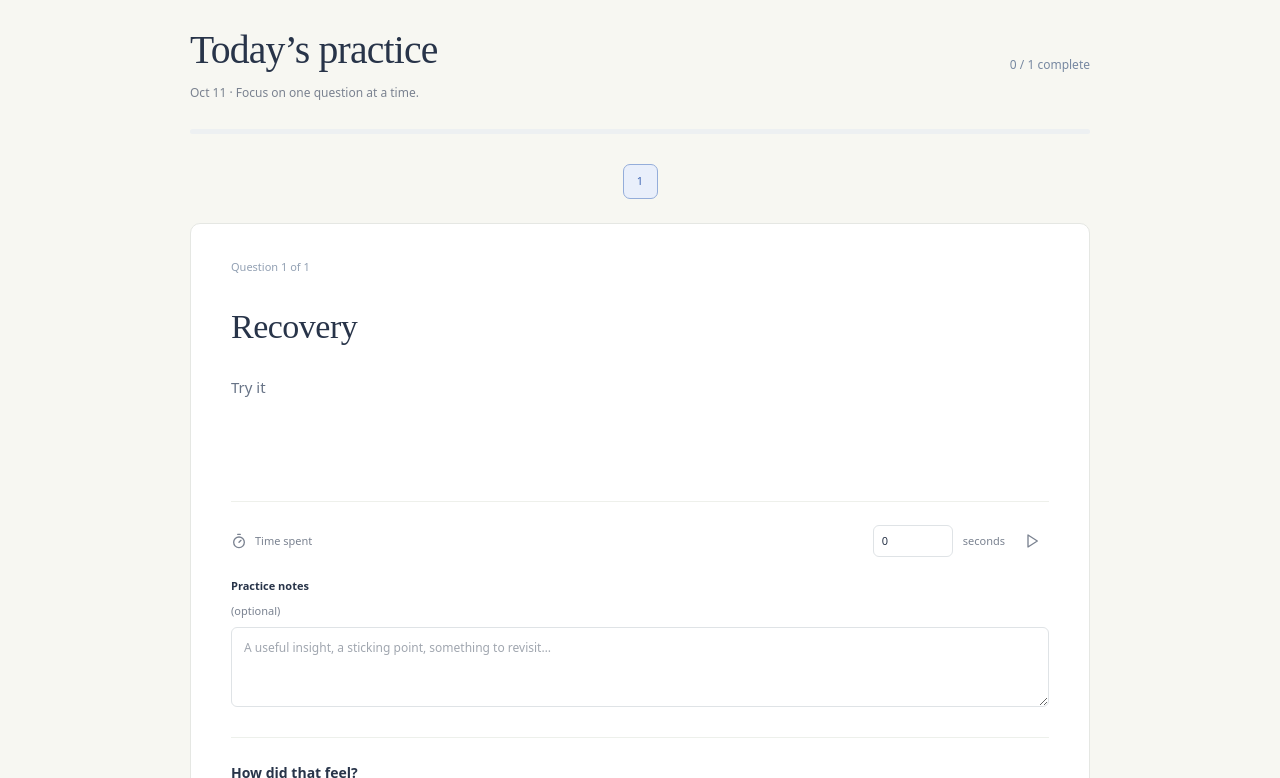
Test: practice workspace › freezes uncertain rating retries and recovers a committed rating after a lost response
Expected: the heading "Recovery" is shown, [231,308,357,345]
Replace the text in the number field named "Time spent in seconds" with "37" at (913, 541), box [873,525,953,557]
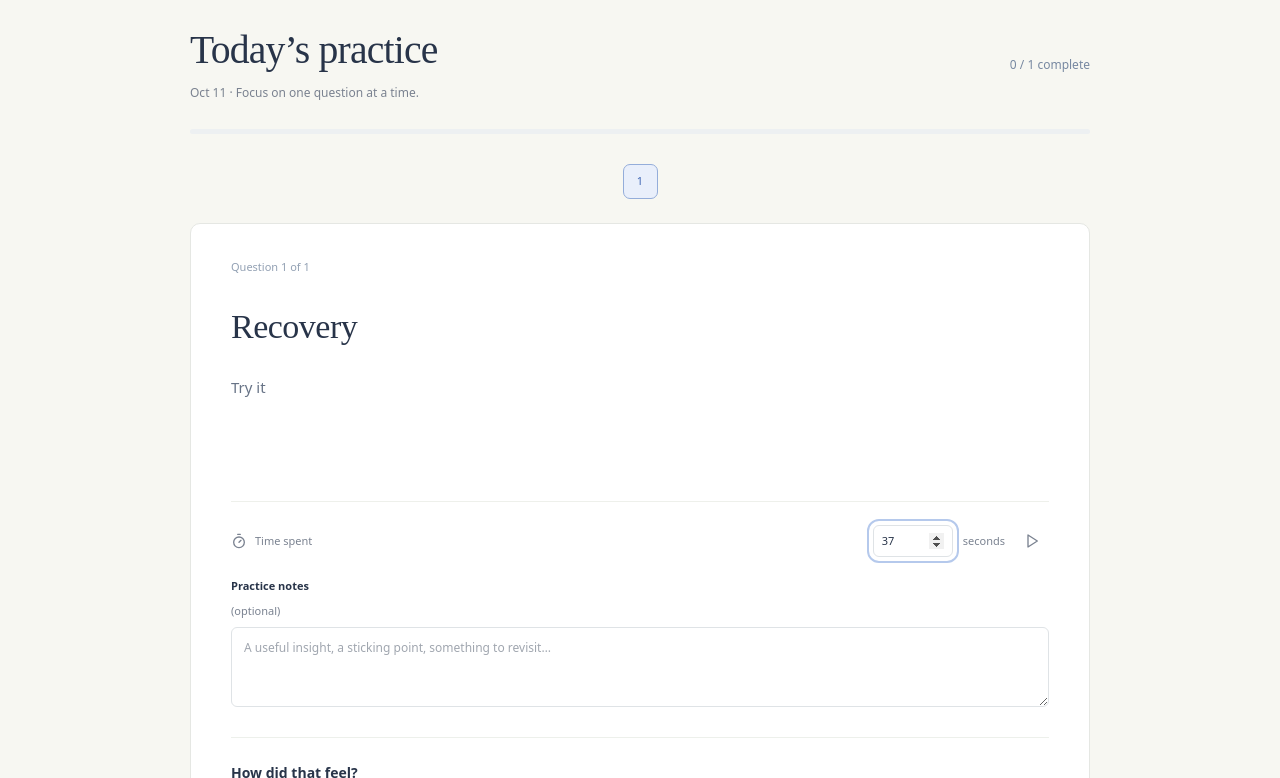
Type "A saved note" into the text box.
click(640, 667); type("A saved note")  # box [231,627,1049,707]
(page scrolled)
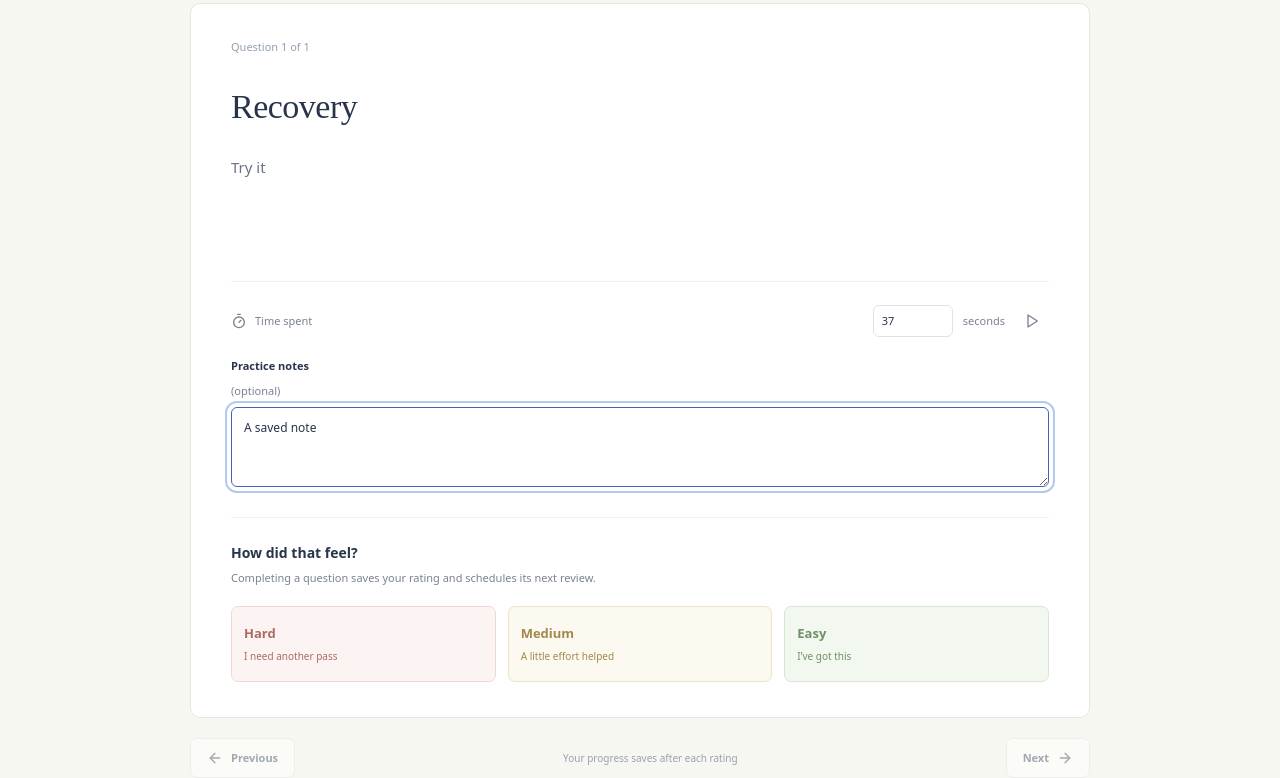
Click the button "Easy I’ve got this".
click(824, 656)  # box [784,606,1049,682]
(page scrolled)
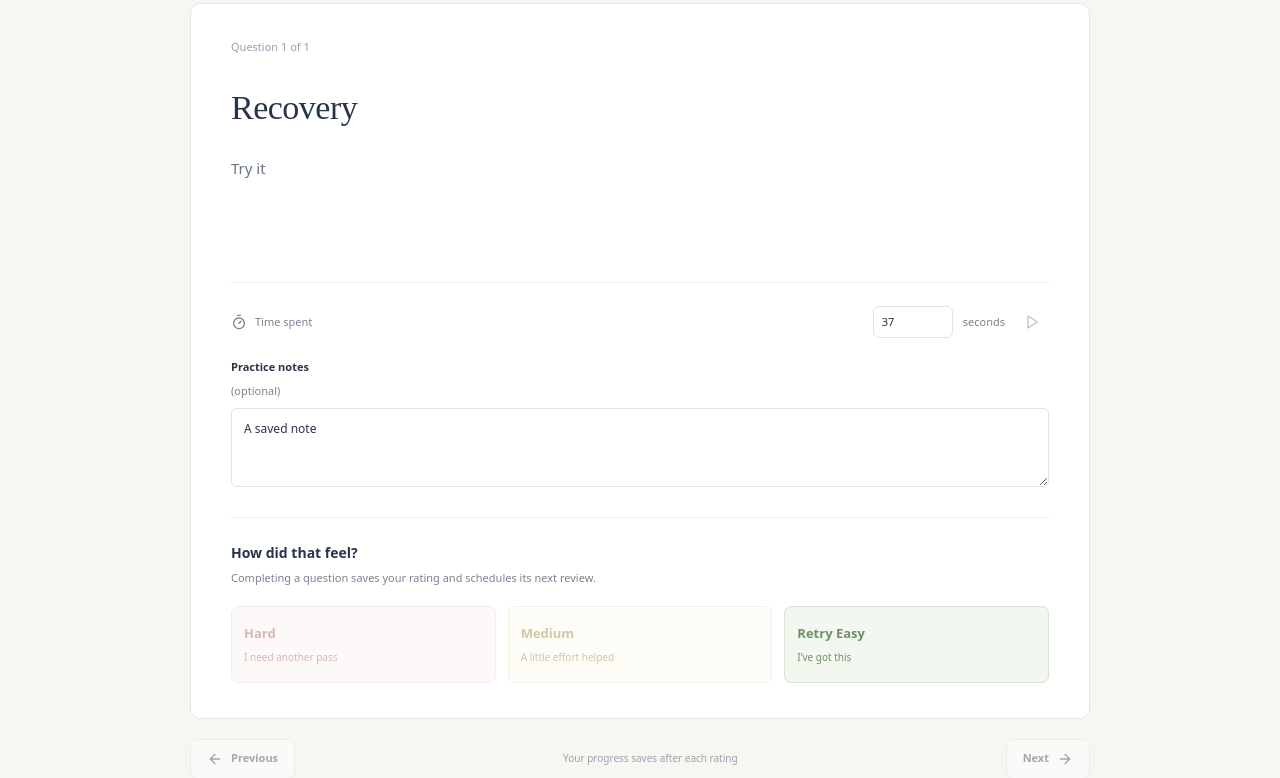
Now the number field named "Time spent in seconds" is disabled, box [873,306,953,338]
Now the text box is disabled, box [231,408,1049,487]
Now the button named "Start timer" is disabled, box [1015,305,1049,339]
Click the button "Retry Easy I’ve got this".
click(831, 633)  # box [784,606,1049,682]
(page scrolled)
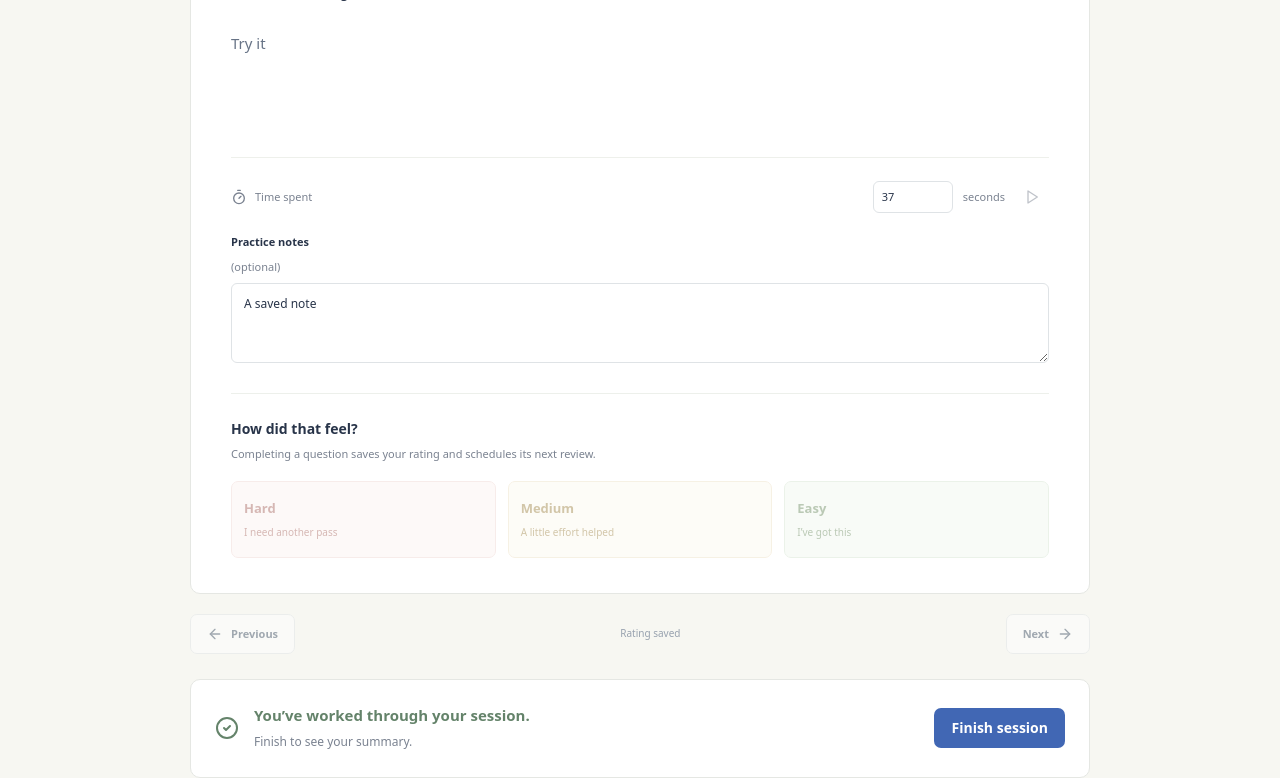
Now the button "Finish session" is shown, box [934,708,1065,748]
